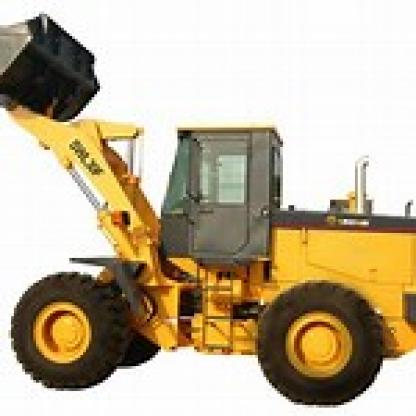excavator: (20, 11, 414, 394)
